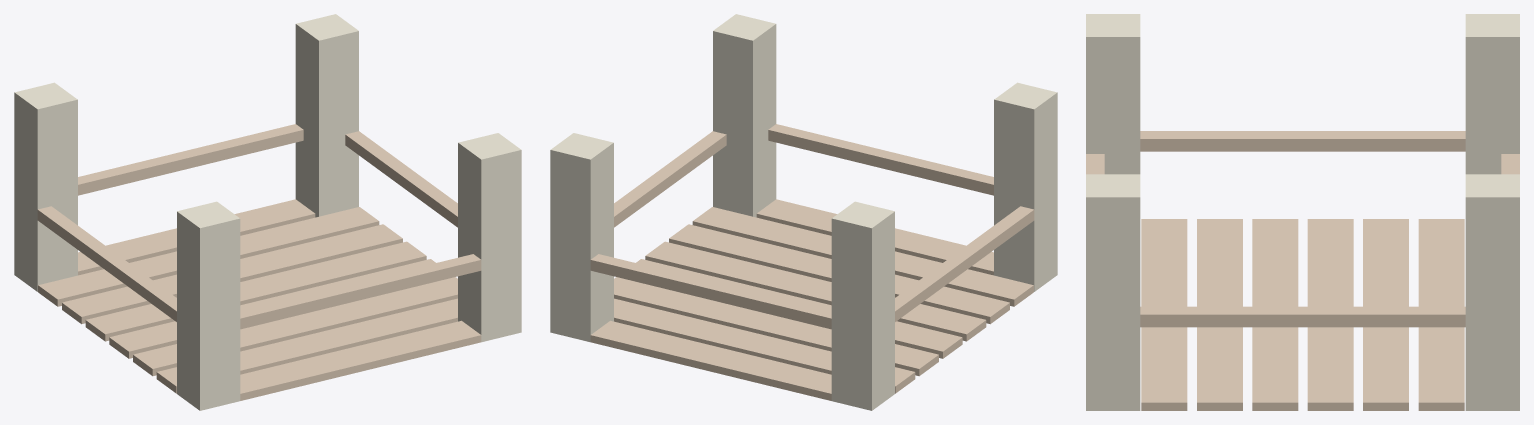
File: towerSquareMidOpenHalf.glb
3 views of the same model, side by side, from view 1: azimuth 30°, elevation 25°; view 2: azimuth 150°, elevation 25°; view 3: azimuth 270°, elevation 25° (orthographic). The views are drawn at different scales.
Visible parts, largest first — view 1: towerSquareMidOpenHalf, plank 19, plank 17, plank 22, plank 23, plank 18, plank 20, rail 9, rail 10, plank 16, rail 12, rail 11 (+1 smaller); view 2: towerSquareMidOpenHalf, plank 16, plank 21, plank 18, plank 20, plank 22, plank 23, rail 10, rail 9, plank 19, rail 12, rail 11 (+1 smaller); view 3: towerSquareMidOpenHalf, plank 17, plank 20, plank 21, plank 23, plank 18, plank 22, rail 11, rail 12, rail 9, rail 10.
Boxes of the visible parts, left/top/right/bottom form: towerSquareMidOpenHalf: left=14, top=14, right=521, bottom=410; plank 19: left=240, top=320, right=481, bottom=400; plank 17: left=85, top=241, right=426, bottom=341; plank 22: left=133, top=277, right=457, bottom=376; plank 23: left=38, top=207, right=379, bottom=306; plank 18: left=62, top=224, right=402, bottom=324; plank 20: left=156, top=298, right=457, bottom=393; rail 9: left=240, top=254, right=481, bottom=329; rail 10: left=78, top=124, right=303, bottom=195; plank 16: left=78, top=199, right=315, bottom=275; rail 12: left=37, top=206, right=176, bottom=321; rail 11: left=345, top=131, right=457, bottom=227; towerSquareMidOpenHalf: left=550, top=14, right=1057, bottom=410; plank 16: left=590, top=320, right=831, bottom=400; plank 21: left=645, top=241, right=986, bottom=341; plank 18: left=614, top=277, right=938, bottom=376; plank 20: left=692, top=207, right=1033, bottom=306; plank 22: left=669, top=224, right=1009, bottom=324; plank 23: left=614, top=298, right=915, bottom=393; rail 10: left=590, top=254, right=831, bottom=329; rail 9: left=768, top=124, right=993, bottom=195; plank 19: left=756, top=199, right=993, bottom=275; rail 12: left=895, top=206, right=1034, bottom=321; rail 11: left=614, top=131, right=726, bottom=227; towerSquareMidOpenHalf: left=1086, top=14, right=1519, bottom=410; plank 17: left=1307, top=219, right=1353, bottom=410; plank 20: left=1141, top=219, right=1187, bottom=410; plank 21: left=1252, top=219, right=1298, bottom=410; plank 23: left=1418, top=219, right=1464, bottom=410; plank 18: left=1363, top=219, right=1408, bottom=410; plank 22: left=1197, top=219, right=1242, bottom=410; rail 11: left=1140, top=306, right=1465, bottom=327; rail 12: left=1140, top=131, right=1465, bottom=151; rail 9: left=1086, top=154, right=1104, bottom=174; rail 10: left=1501, top=154, right=1519, bottom=174.
Size of the model in its own units: 9.3 by 5.05 by 9.3.
